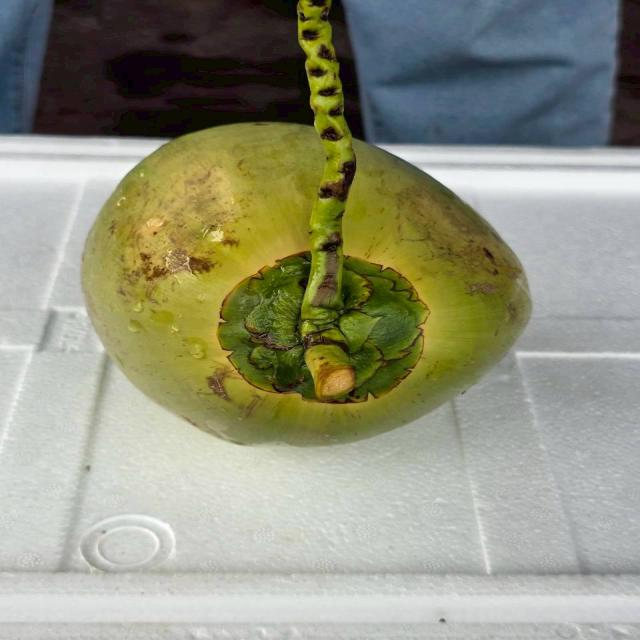coco_2.0: (195, 235, 456, 425)
